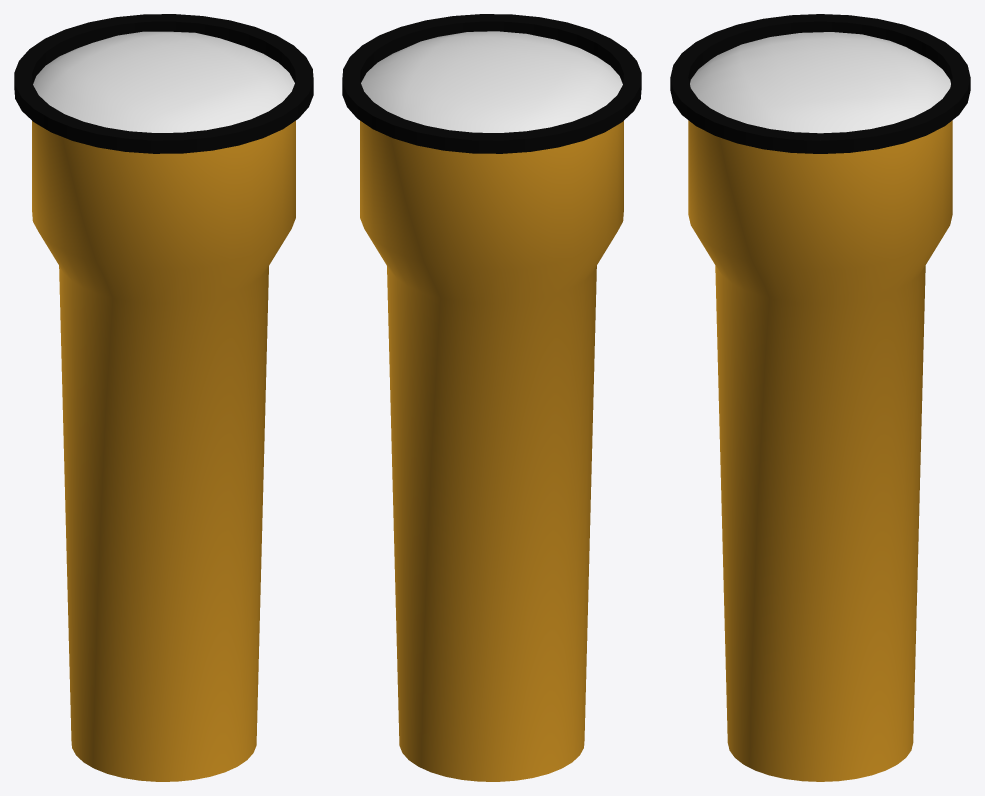
Rendered from Torch.glb.
The picture shows the model from 3 angles, left to right: view 1: azimuth 30°, elevation 25°; view 2: azimuth 150°, elevation 25°; view 3: azimuth 270°, elevation 25°; orthographic projection.
Visible parts, largest first — view 1: Cylinder; view 2: Cylinder; view 3: Cylinder.
Boxes of the visible parts, <box> form: Cylinder: <box>14,14,313,781</box>; Cylinder: <box>342,14,641,781</box>; Cylinder: <box>670,14,970,781</box>.
Bounding box in the file's own units: 3.24 × 8.06 × 3.24.
